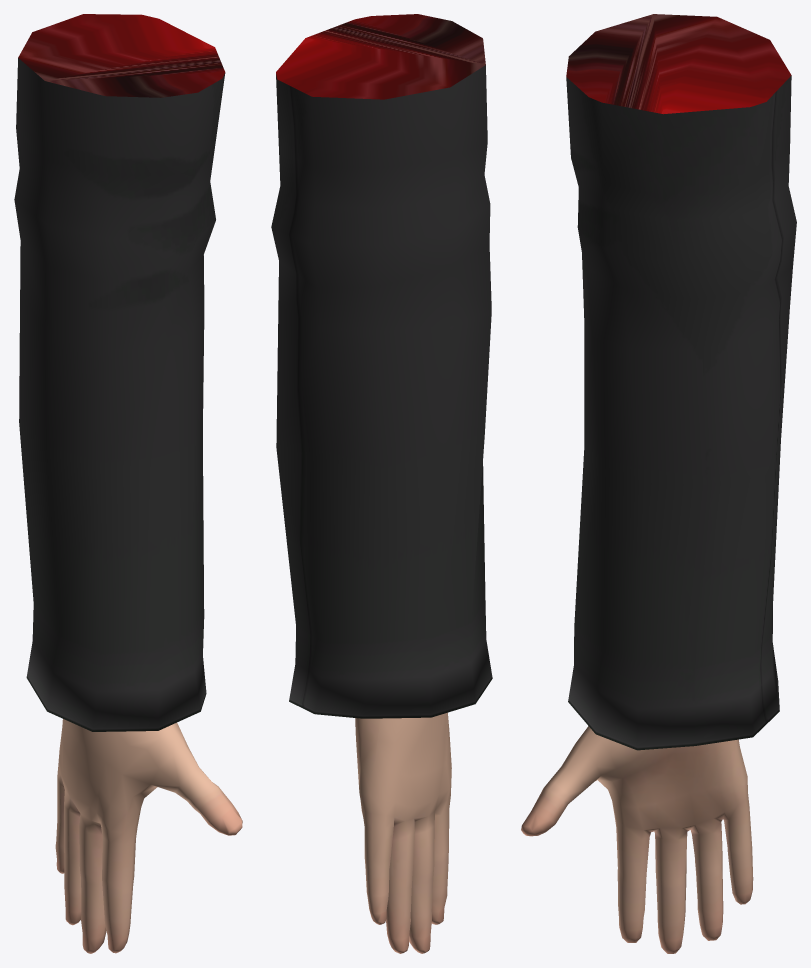
Rendered from MaleRightArm.fbx.
3 renders of one model, left to right at view 1: azimuth 30°, elevation 25°; view 2: azimuth 150°, elevation 25°; view 3: azimuth 270°, elevation 25°, orthographic. The views are drawn at different scales.
Visible parts, largest first — view 1: MaleRightArm; view 2: MaleRightArm; view 3: MaleRightArm.
Boxes of the visible parts, x1,y1,x2,y2 form: MaleRightArm: [14, 14, 242, 953]; MaleRightArm: [271, 14, 492, 953]; MaleRightArm: [521, 14, 796, 953].
Size of the model in its own units: 0.0986 by 0.4761 by 0.1306.
